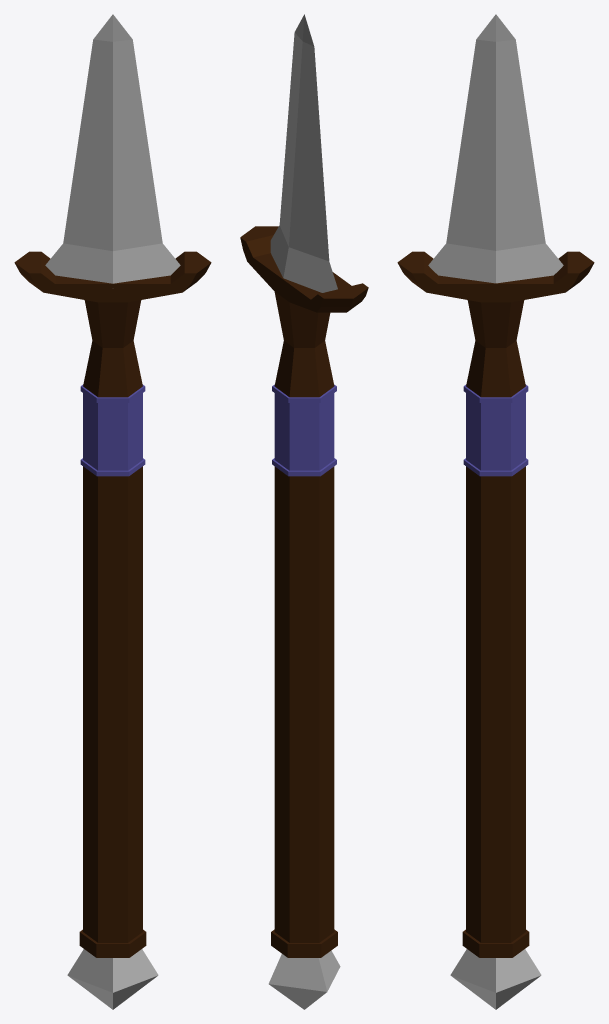
The model's file is espadaLanza.fbx.
3 views of the same model, side by side, from view 1: azimuth 90°, elevation 25°; view 2: azimuth 210°, elevation 25°; view 3: azimuth 270°, elevation 25° (orthographic).
Visible parts, largest first — view 1: espadaLanza; view 2: espadaLanza; view 3: espadaLanza.
Part boxes in pixels (x1=…): espadaLanza: x1=14, y1=14, x2=211, y2=1009; espadaLanza: x1=240, y1=14, x2=368, y2=1009; espadaLanza: x1=397, y1=14, x2=594, y2=1009.
Bounding box in the file's own units: 21.41 × 283 × 50.75.
